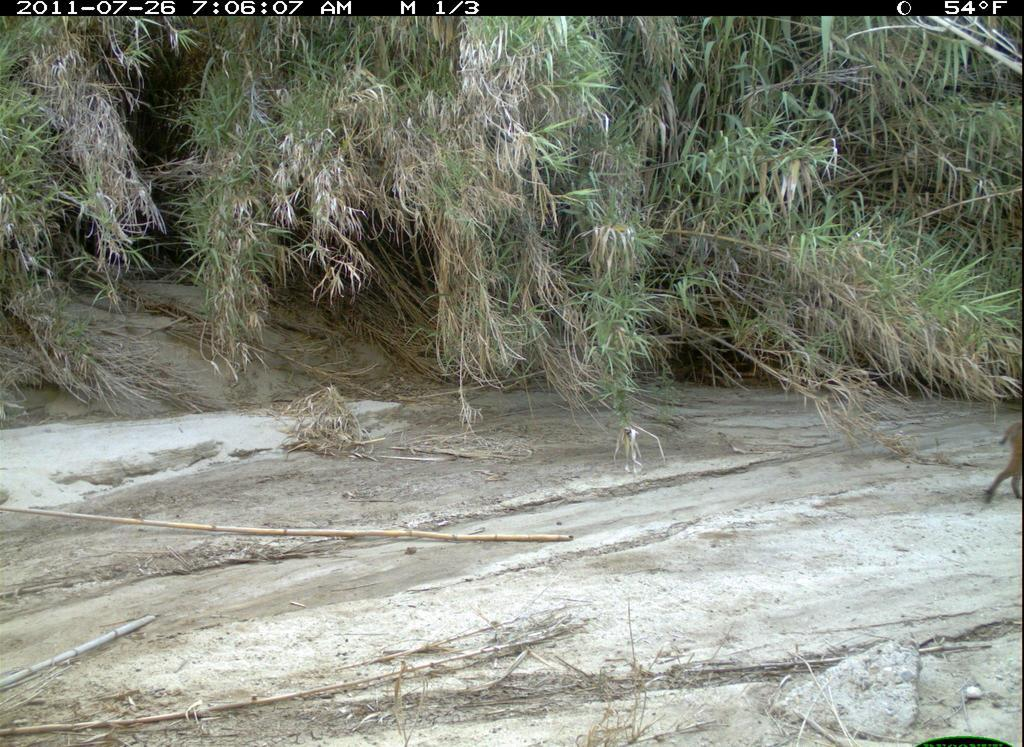bobcat: (984, 419, 1021, 505)
